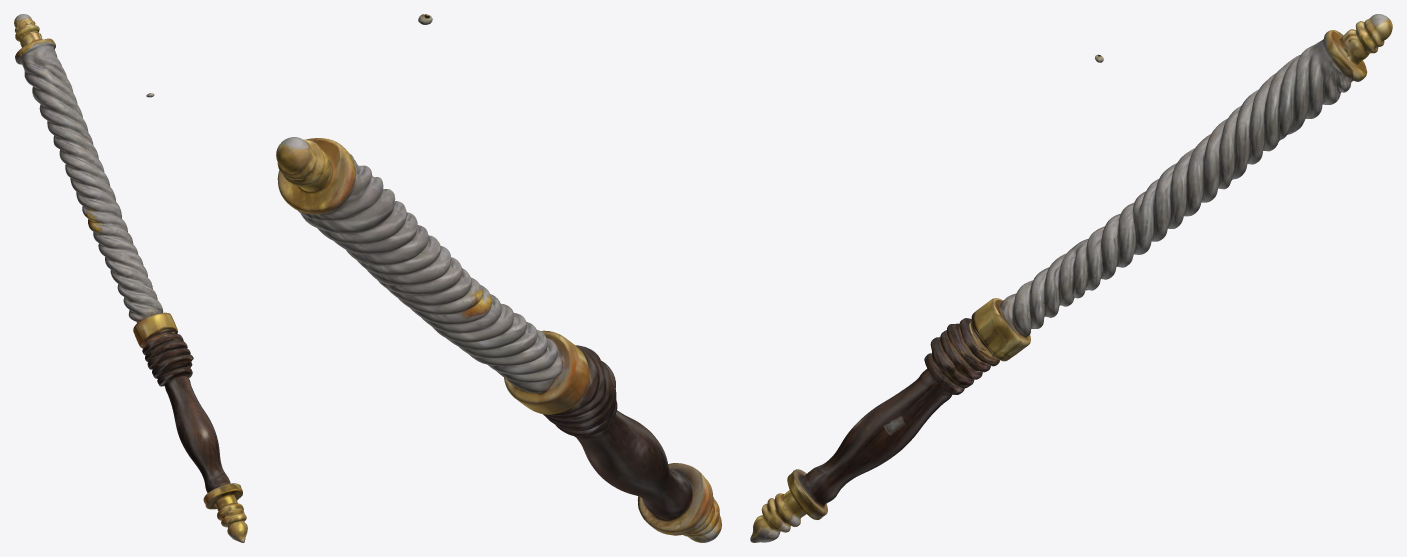
File: ravana_blackjack_0313192643_texture.fbx
3 renders of one model, left to right at view 1: azimuth 30°, elevation 25°; view 2: azimuth 150°, elevation 25°; view 3: azimuth 270°, elevation 25°, orthographic. The views are drawn at different scales.
Visible parts, largest first — view 1: Mesh1_Mesh1.018; view 2: Mesh1_Mesh1.018; view 3: Mesh1_Mesh1.018.
Part boxes in pixels (x1,y1,x2,y2): Mesh1_Mesh1.018: (14,14,247,542); Mesh1_Mesh1.018: (276,14,721,542); Mesh1_Mesh1.018: (750,14,1392,542).
Bounding box in the file's own units: 27.26 × 181 × 200.
1 material, 1 textured.
